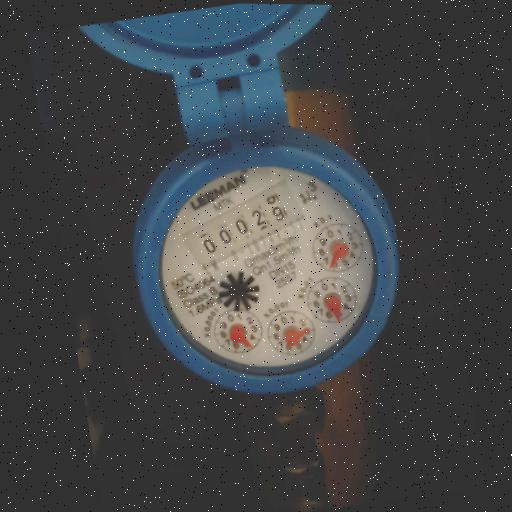0: (228, 211, 255, 242), (213, 221, 237, 251), (197, 229, 220, 258)
2: (246, 201, 271, 233)
9: (260, 189, 290, 226)
border_water_meter_number: (175, 175, 312, 275)
